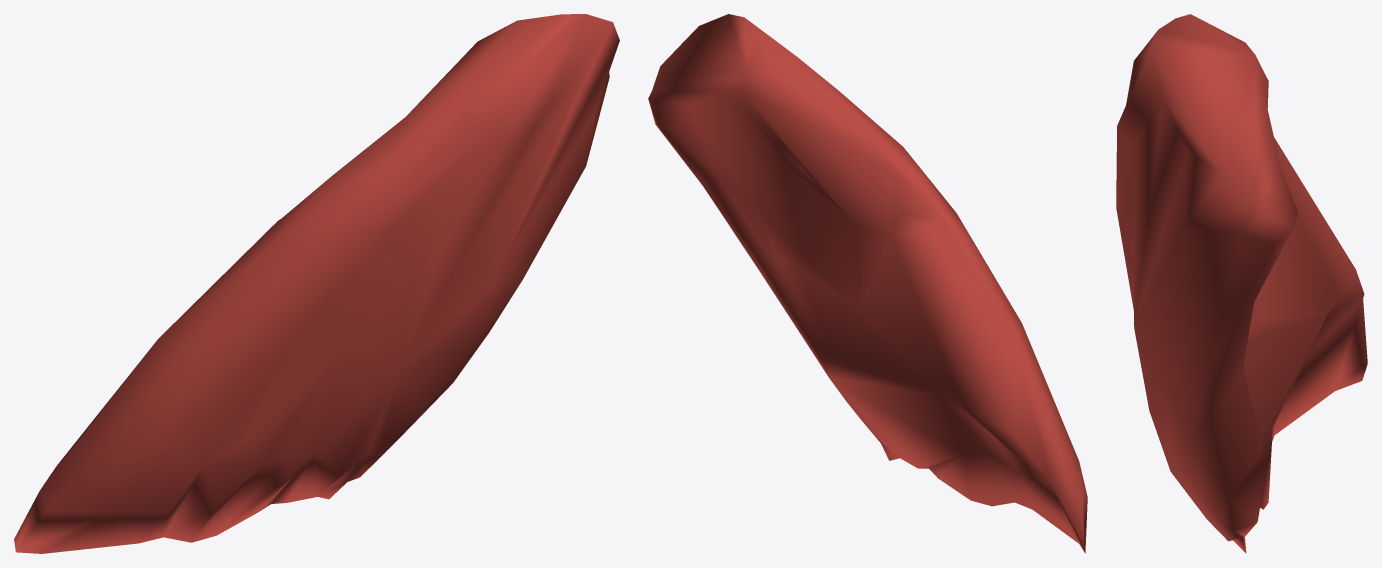
The model's file is musculos-rectus-anterior-capitis-muscle-r.glb.
3 renders of one model, left to right at view 1: azimuth 30°, elevation 25°; view 2: azimuth 150°, elevation 25°; view 3: azimuth 270°, elevation 25°, orthographic. The views are drawn at different scales.
Visible parts, largest first — view 1: Rectus anterior capitis muscle.r; view 2: Rectus anterior capitis muscle.r; view 3: Rectus anterior capitis muscle.r.
Part boxes in pixels (bbox=[...]): Rectus anterior capitis muscle.r: bbox=[14, 14, 619, 553]; Rectus anterior capitis muscle.r: bbox=[648, 14, 1087, 553]; Rectus anterior capitis muscle.r: bbox=[1116, 14, 1367, 553].
Size of the model in its own units: 0.0249 by 0.0204 by 0.00669.
